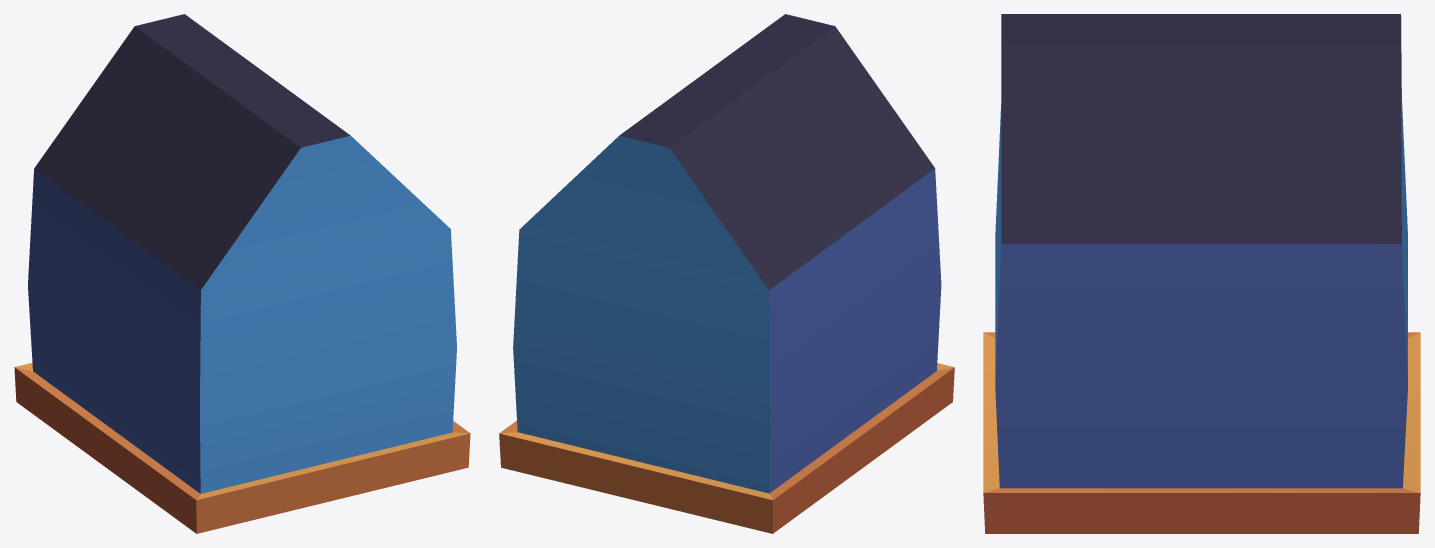
File: House01_Blue_Wood.glb
3 views of the same model, side by side, from view 1: azimuth 30°, elevation 25°; view 2: azimuth 150°, elevation 25°; view 3: azimuth 270°, elevation 25° (orthographic). The views are drawn at different scales.
Parts seen in each view (by area): view 1: House01_Blue_Wood; view 2: House01_Blue_Wood; view 3: House01_Blue_Wood.
Boxes of the visible parts, x1=… form: House01_Blue_Wood: x1=14, y1=14, x2=470, y2=533; House01_Blue_Wood: x1=499, y1=14, x2=954, y2=533; House01_Blue_Wood: x1=983, y1=14, x2=1420, y2=533.
Size of the model in its own units: 2.04 by 2.51 by 2.34.
1 material, 1 textured.
